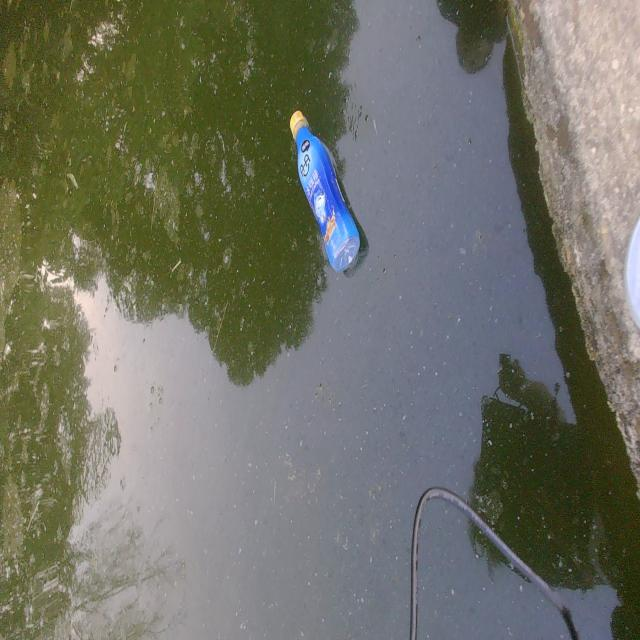Bottle: (288, 106, 362, 274)
